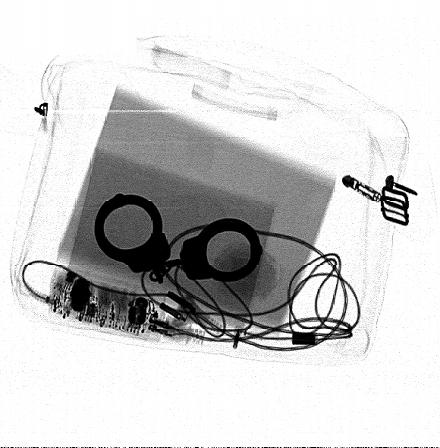HandCuffs: (94, 192, 264, 286)
